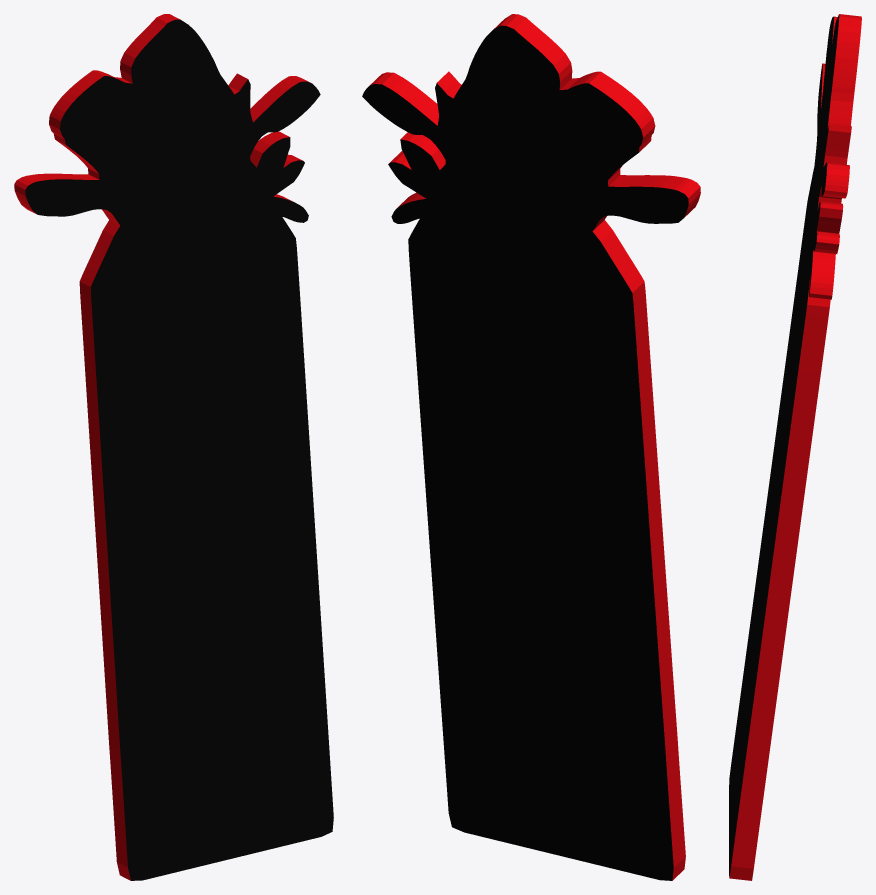
Rendered from plant pot cardboard.fbx.
The picture shows the model from 3 angles, left to right: view 1: azimuth 30°, elevation 25°; view 2: azimuth 150°, elevation 25°; view 3: azimuth 270°, elevation 25°; orthographic projection. The views are drawn at different scales.
Parts seen in each view (by area): view 1: path2; view 2: path2; view 3: path2.
Boxes of the visible parts, box(x1,y1,x2,y2) form: path2: box(14, 14, 333, 880); path2: box(362, 14, 700, 880); path2: box(729, 14, 861, 880).
Bounding box in the file's own units: 584 × 1509 × 223.
